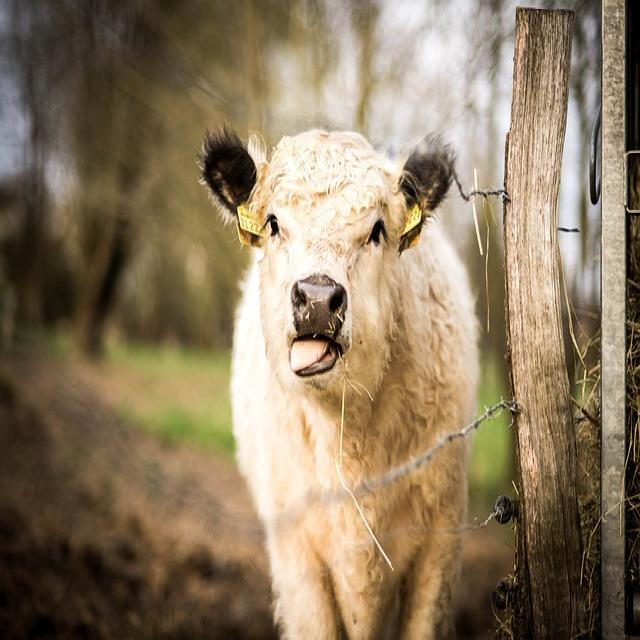sheep: (196, 121, 482, 638)
